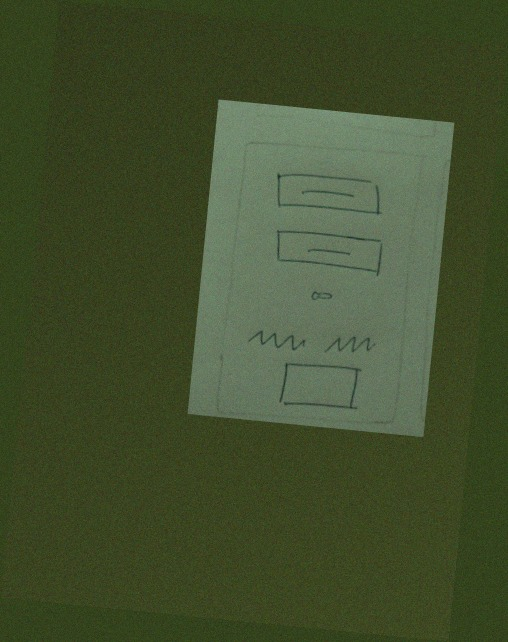button: (267, 222, 388, 278), (270, 167, 389, 221)
switch: (304, 283, 342, 305)
text: (315, 328, 384, 360), (244, 325, 309, 354)
text_input: (272, 357, 369, 416)
